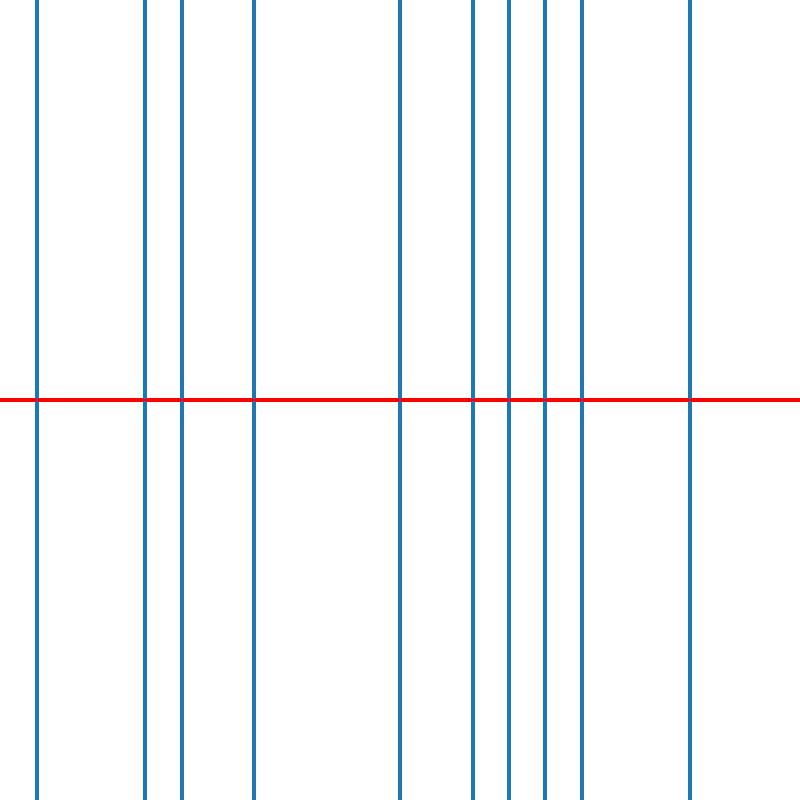root: (250, 396, 258, 404), (541, 396, 549, 404), (32, 396, 40, 404), (141, 396, 149, 404), (396, 396, 403, 404), (505, 396, 512, 404), (469, 396, 476, 404), (687, 396, 694, 404), (178, 396, 185, 404), (578, 396, 585, 404)
